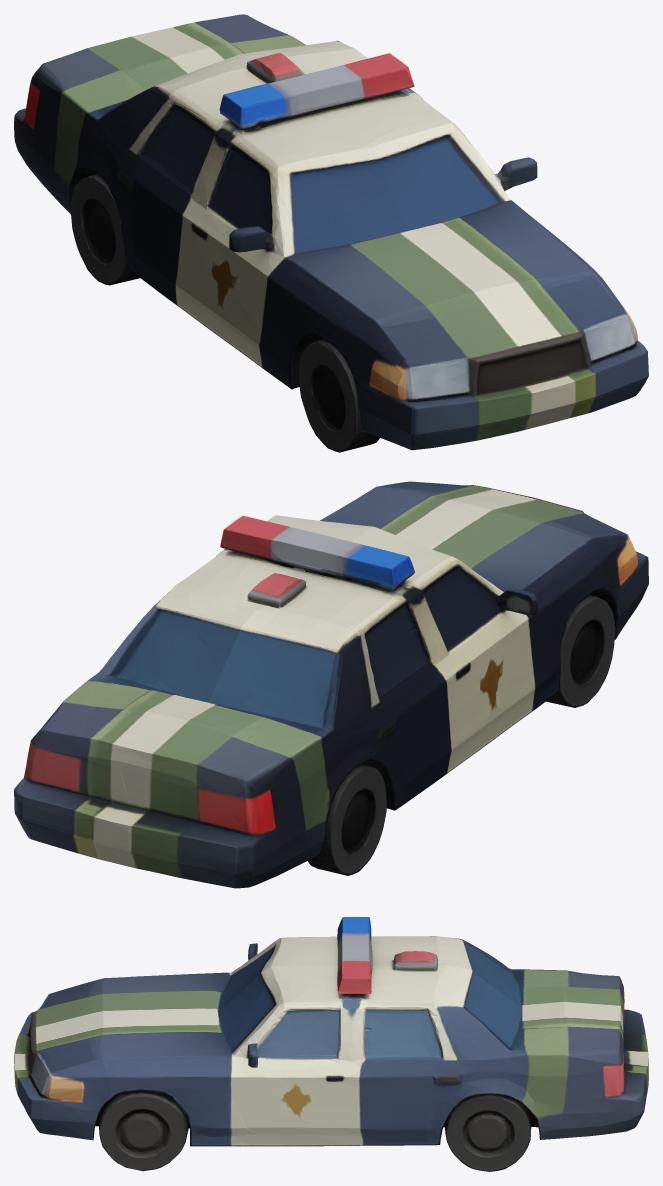
File: police_car.glb
The picture shows the model from 3 angles, top to bottom: view 1: azimuth 30°, elevation 25°; view 2: azimuth 150°, elevation 25°; view 3: azimuth 270°, elevation 25°; orthographic projection. The views are drawn at different scales.
Parts seen in each view (by area): view 1: world; view 2: world; view 3: world.
Part boxes in pixels (bbox=[...]): world: bbox=[14, 14, 648, 452]; world: bbox=[14, 481, 648, 888]; world: bbox=[14, 917, 648, 1171].
Size of the model in its own units: 0.421 by 0.3078 by 0.9981.
Materials: 1 (1 with a texture image).
